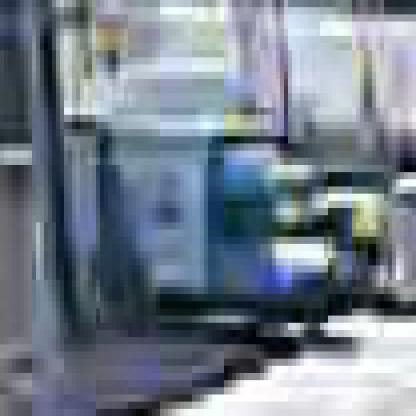truck: (97, 144, 329, 331)
